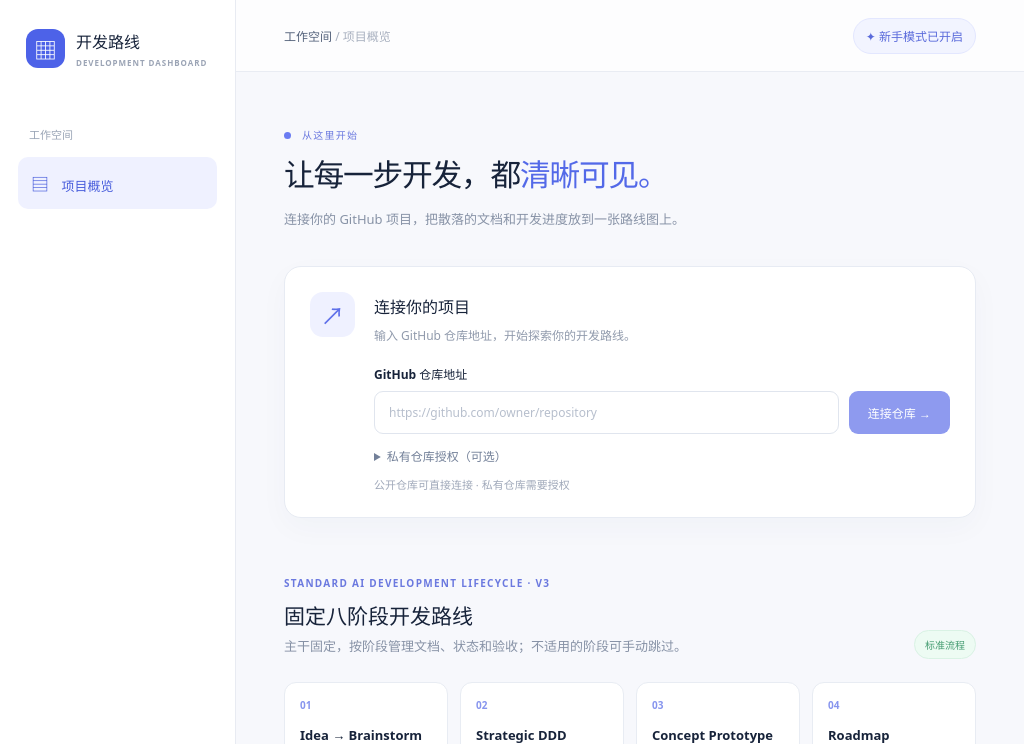
Test case: first project connection › distinguishes an inaccessible repository from missing documents
Type "example/private" into the field labelled "GitHub 仓库地址" at (606, 413), box [374,391,839,434]
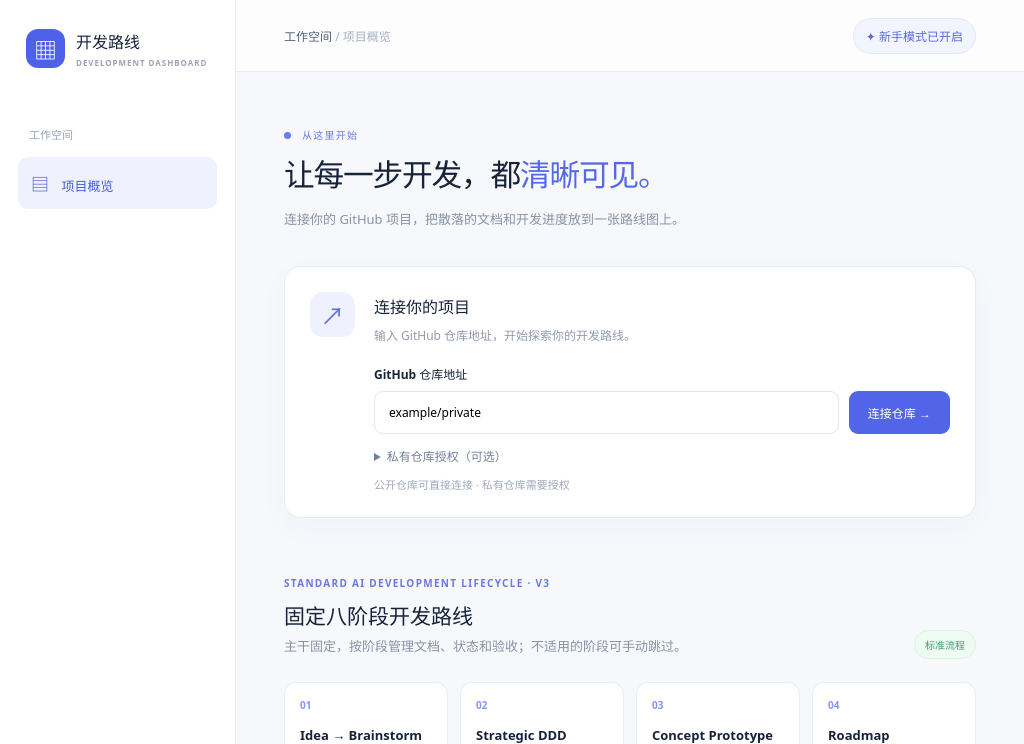
Click the button "连接仓库 →" at (899, 413), box [849,391,950,434]
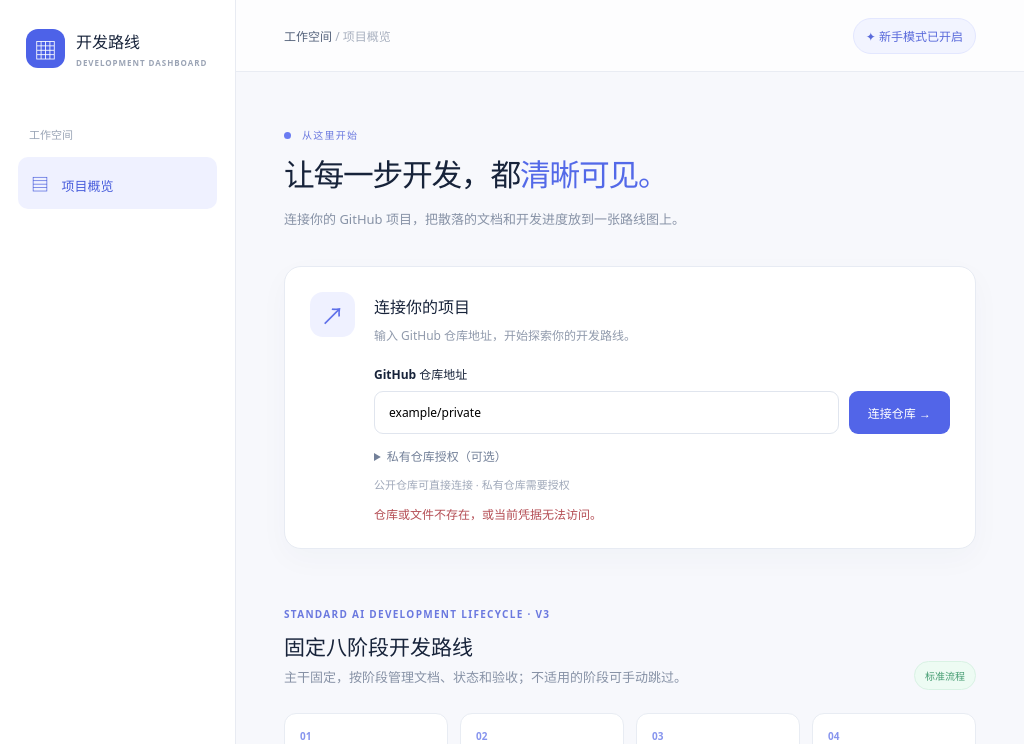
expect the message reads "仓库或文件不存在，或当前凭据无法访问。": met, box [374,506,602,523]
